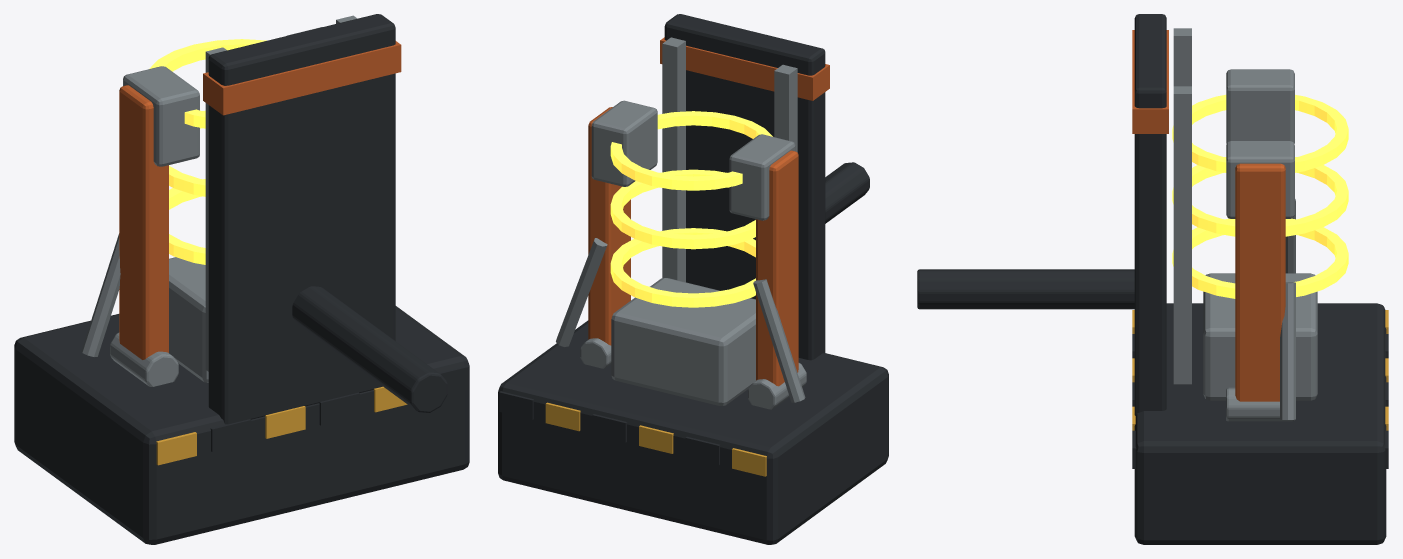
The model's file is prop_cradle.glb.
3 renders of one model, left to right at view 1: azimuth 30°, elevation 25°; view 2: azimuth 150°, elevation 25°; view 3: azimuth 270°, elevation 25°, orthographic. The views are drawn at different scales.
Parts seen in each view (by area): view 1: Cradle_mesh, ClampL_mesh, Ring2_mesh, Ring0_mesh, Ring1_mesh; view 2: Cradle_mesh, ClampL_mesh, ClampR_mesh, Ring2_mesh, Ring0_mesh, Ring1_mesh; view 3: Cradle_mesh, ClampR_mesh, ClampL_mesh, Ring2_mesh, Ring1_mesh, Ring0_mesh.
Part boxes in pixels (<box>): Cradle_mesh: <box>14,14,469,544</box>; ClampL_mesh: <box>81,66,199,386</box>; Ring2_mesh: <box>149,39,266,128</box>; Ring0_mesh: <box>169,179,205,264</box>; Ring1_mesh: <box>169,110,205,196</box>; Cradle_mesh: <box>498,14,888,544</box>; ClampL_mesh: <box>729,134,806,409</box>; ClampR_mesh: <box>556,100,657,368</box>; Ring2_mesh: <box>610,111,772,190</box>; Ring0_mesh: <box>610,228,755,307</box>; Ring1_mesh: <box>610,169,755,249</box>; Cradle_mesh: <box>917,14,1388,544</box>; ClampR_mesh: <box>1226,141,1295,421</box>; ClampL_mesh: <box>1226,69,1295,273</box>; Ring2_mesh: <box>1172,94,1348,172</box>; Ring1_mesh: <box>1172,157,1348,236</box>; Ring0_mesh: <box>1172,218,1348,298</box>.
Bounding box in the file's own units: 1.5 × 2.05 × 2.06.
